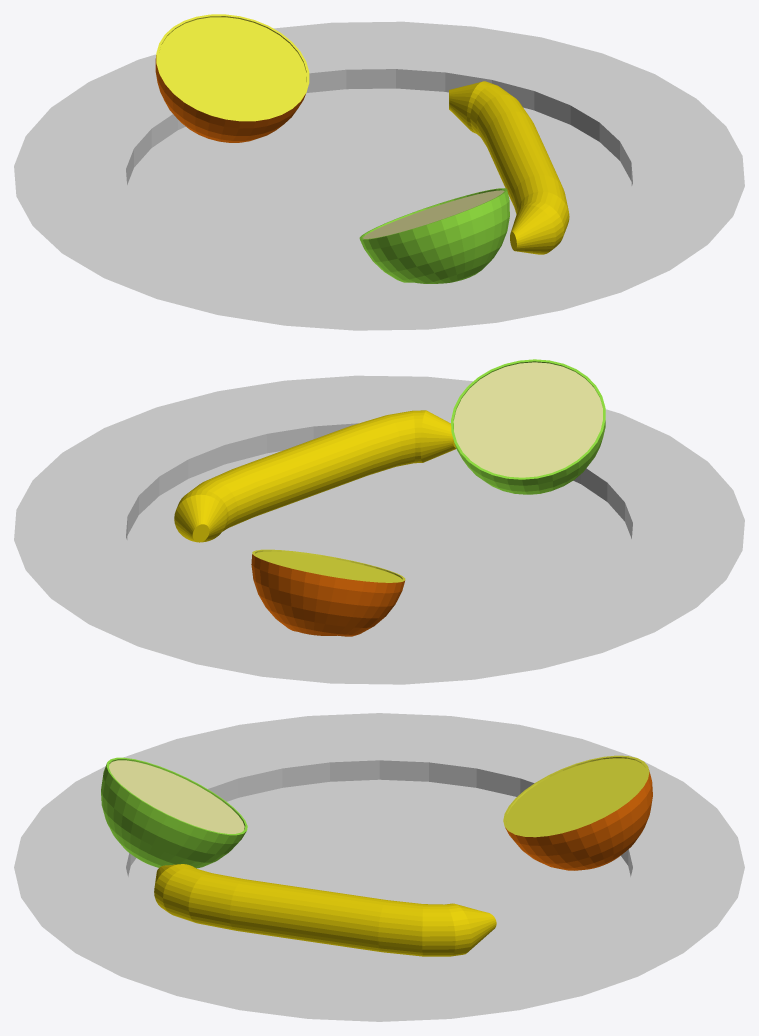
Rendered from Food.fbx.
3 views of the same model, one above another, from view 1: azimuth 30°, elevation 25°; view 2: azimuth 150°, elevation 25°; view 3: azimuth 270°, elevation 25° (orthographic).
Parts seen in each view (by area): view 1: plate, Orange, Banana, Apple; view 2: plate, Apple, Banana, Orange; view 3: plate, Banana, Orange, Apple.
Boxes of the visible parts, bbox=[...] form: plate: bbox=[14, 21, 744, 330]; Orange: bbox=[155, 14, 309, 142]; Banana: bbox=[449, 81, 569, 254]; Apple: bbox=[359, 188, 509, 283]; plate: bbox=[14, 375, 744, 684]; Apple: bbox=[451, 359, 605, 494]; Banana: bbox=[174, 410, 456, 542]; Orange: bbox=[251, 549, 405, 636]; plate: bbox=[14, 713, 744, 1021]; Banana: bbox=[154, 864, 496, 956]; Orange: bbox=[503, 755, 652, 870]; Apple: bbox=[101, 757, 247, 868].
Size of the model in its own units: 200 by 41.72 by 200.
